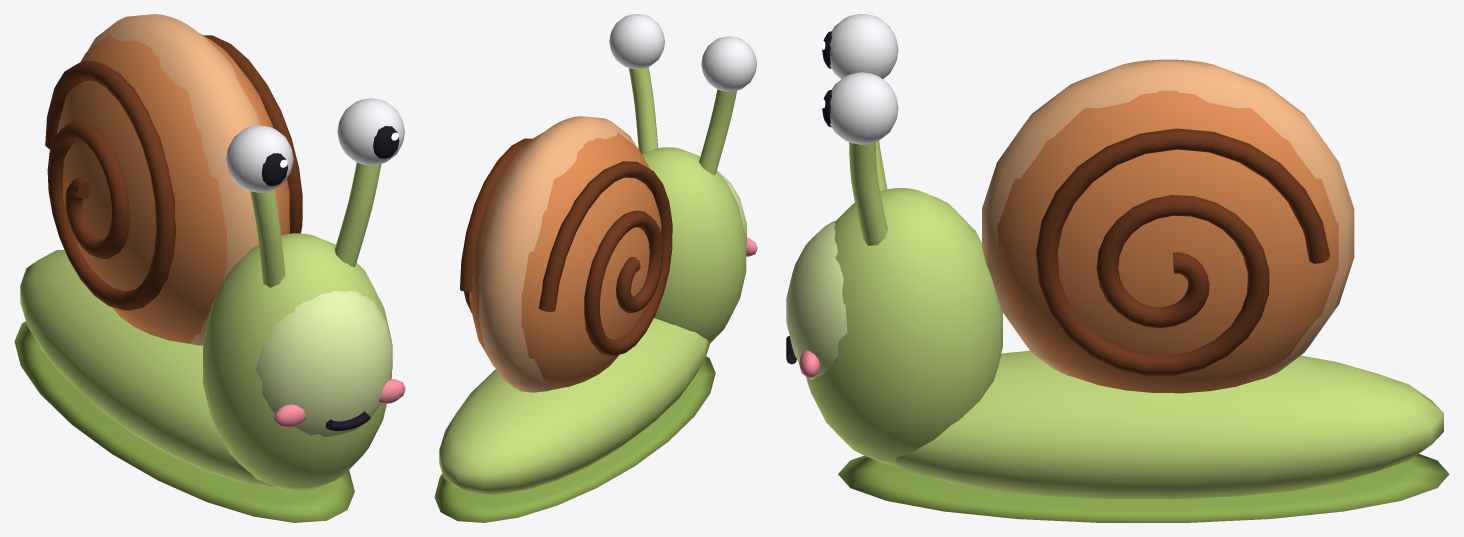
Rendered from shelly.glb.
3 renders of one model, left to right at view 1: azimuth 30°, elevation 25°; view 2: azimuth 150°, elevation 25°; view 3: azimuth 270°, elevation 25°, orthographic. The views are drawn at different scales.
Parts seen in each view (by area): view 1: shelly_ShellCase, shelly_Neck, shelly_Foot, shelly_Spiral_L, shelly_Face, shelly_Sole, shelly_ShellRim, shelly_EyeBall_R, shelly_EyeBall_L, shelly_StalkSkin_R, shelly_Spiral_R, shelly_StalkSkin_L (+5 smaller); view 2: shelly_Foot, shelly_ShellCase, shelly_ShellRim, shelly_Neck, shelly_Spiral_L, shelly_Sole, shelly_EyeBall_L, shelly_EyeBall_R, shelly_Spiral_R, shelly_StalkSkin_R, shelly_StalkSkin_L; view 3: shelly_ShellCase, shelly_Foot, shelly_Neck, shelly_Spiral_R, shelly_ShellRim, shelly_Sole, shelly_Face, shelly_EyeBall_R, shelly_EyeBall_L, shelly_StalkSkin_R.
Part boxes in pixels (bbox=[...]): shelly_ShellCase: bbox=[57, 33, 289, 343]; shelly_Neck: bbox=[203, 233, 391, 491]; shelly_Foot: bbox=[20, 249, 277, 487]; shelly_Spiral_L: bbox=[45, 61, 176, 310]; shelly_Face: bbox=[255, 291, 392, 436]; shelly_Sole: bbox=[14, 321, 354, 522]; shelly_ShellRim: bbox=[88, 14, 278, 345]; shelly_EyeBall_R: bbox=[337, 98, 404, 165]; shelly_EyeBall_L: bbox=[226, 125, 293, 192]; shelly_StalkSkin_R: bbox=[334, 162, 381, 267]; shelly_Spiral_R: bbox=[204, 35, 302, 233]; shelly_StalkSkin_L: bbox=[250, 190, 285, 287]; shelly_Foot: bbox=[439, 318, 710, 494]; shelly_ShellCase: bbox=[469, 132, 661, 389]; shelly_ShellRim: bbox=[479, 116, 635, 392]; shelly_Neck: bbox=[642, 147, 746, 342]; shelly_Spiral_L: bbox=[539, 161, 672, 356]; shelly_Sole: bbox=[434, 356, 715, 522]; shelly_EyeBall_L: bbox=[701, 36, 756, 91]; shelly_EyeBall_R: bbox=[609, 14, 664, 69]; shelly_Spiral_R: bbox=[460, 138, 532, 313]; shelly_StalkSkin_R: bbox=[629, 67, 658, 153]; shelly_StalkSkin_L: bbox=[699, 89, 736, 175]; shelly_ShellCase: bbox=[997, 90, 1338, 393]; shelly_Foot: bbox=[886, 350, 1443, 498]; shelly_Neck: bbox=[806, 188, 1002, 464]; shelly_Spiral_R: bbox=[1036, 128, 1329, 375]; shelly_ShellRim: bbox=[982, 59, 1354, 380]; shelly_Sole: bbox=[838, 454, 1449, 522]; shelly_Face: bbox=[786, 220, 847, 379]; shelly_EyeBall_R: bbox=[830, 72, 898, 144]; shelly_EyeBall_L: bbox=[830, 14, 898, 78]; shelly_StalkSkin_R: bbox=[849, 142, 887, 245].
Size of the model in its own units: 0.1907 by 0.4 by 0.5465.
